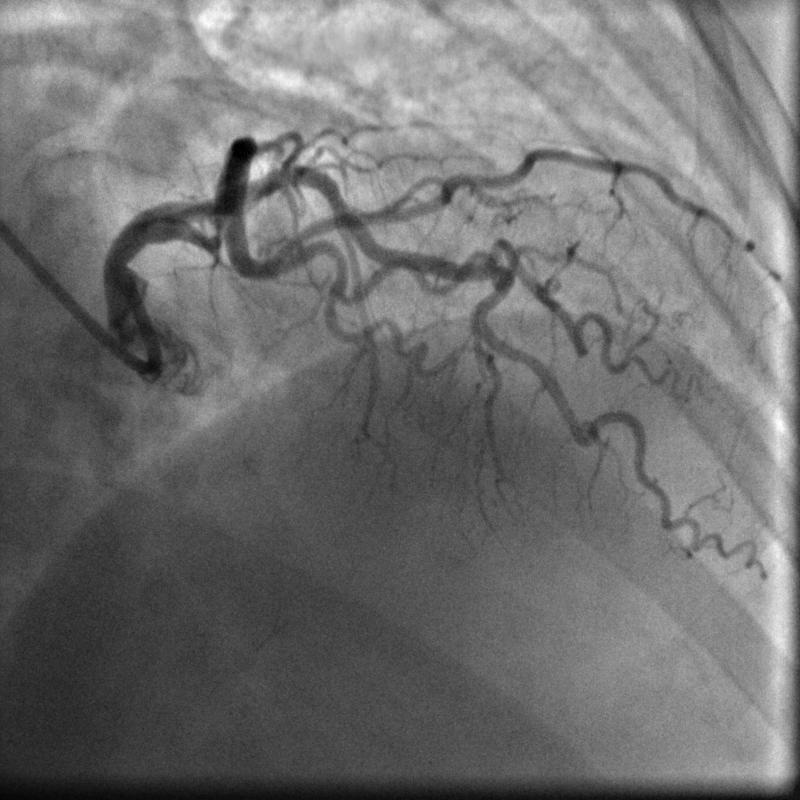Stenosis: (201, 202, 230, 255)
